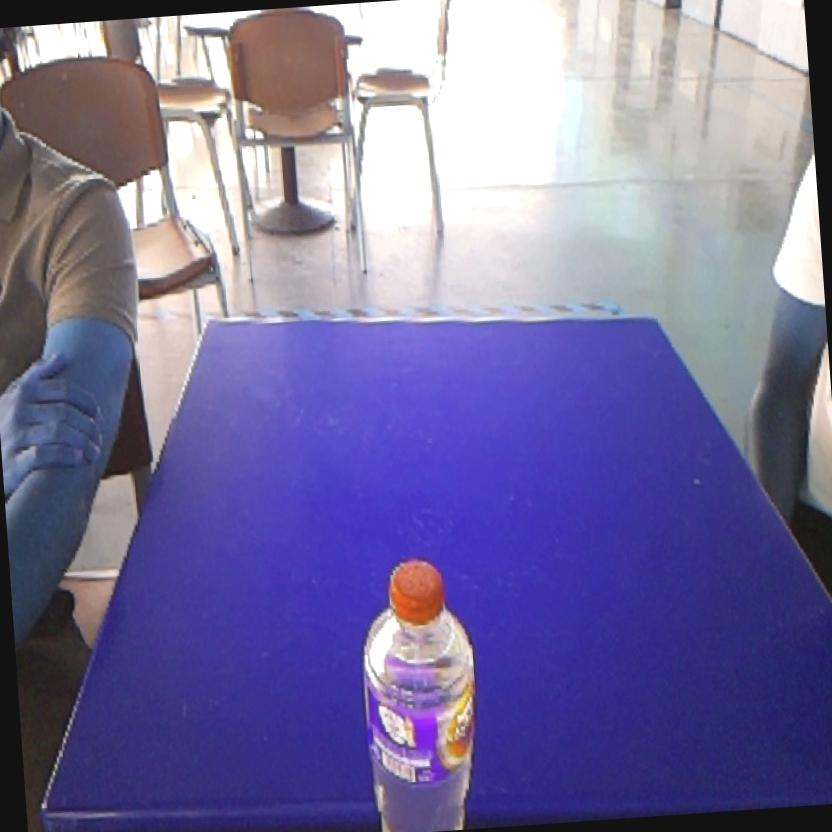good: (335, 532, 494, 832)
